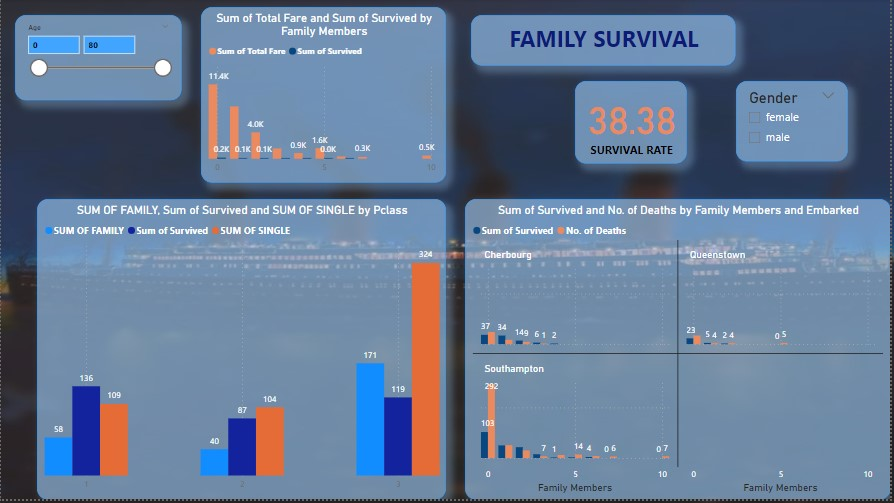

What the dashboard file says about the page in this screenshot:
{"tool":"powerbi","page":{"name":"Family","canvas":[1280,720],"ordinal":1},"visuals":[{"type":"clusteredColumnChart","fields":{"Category":["Titanic_Survival.Family Members"],"Y":["Sum(Titanic_Survival.Survived)","Titanic_Survival.No. of Deaths"],"Rows":["Titanic_Survival.Embarked"]},"box":[667.5,287.5,612.5,432.5],"z":0},{"type":"card","fields":{"Values":["Titanic_Survival.SURVIVAL RATE"]},"box":[826.2,117.5,161.2,118.8],"z":1000},{"type":"clusteredColumnChart","title":"SUM OF FAMILY, Sum of Survived and SUM OF SINGLE by Pclass","fields":{"Category":["Titanic_Survival.Pclass"],"Y":["Titanic_Survival.SUM OF FAMILY","Sum(Titanic_Survival.Survived)","Titanic_Survival.SINGLE PASSENGER"]},"box":[51.2,287.5,588.8,432.5],"z":2000},{"type":"slicer","fields":{"Values":["Titanic_Survival.Age"]},"box":[20,23.8,240,122.5],"z":3000},{"type":"slicer","fields":{"Values":["Titanic_Survival.Sex"]},"box":[1058.8,118.8,161.2,116.2],"z":4000},{"type":"lineClusteredColumnComboChart","fields":{"Category":["Titanic_Survival.Family Members"],"Y":["Sum(Titanic_Survival.Total Fare)","Sum(Titanic_Survival.Survived)"]},"box":[287.5,11.2,352.5,252.5],"z":5000},{"type":"textbox","box":[677.5,23.8,381.2,72.5],"z":6000}]}

Visuals, with their boxes in screenshot pixels (x1, y1, x2, y2), scaled from the page's 1280x720 canvas onto the 894x503 screenshot:
clusteredColumnChart - Titanic_Survival.Family Members x Sum(Titanic_Survival.Survived): bbox=[466, 201, 893, 502]
card - Titanic_Survival.SURVIVAL RATE: bbox=[577, 82, 690, 165]
"SUM OF FAMILY, Sum of Survived and SUM OF SINGLE by Pclass" clusteredColumnChart: bbox=[36, 201, 447, 502]
slicer - Titanic_Survival.Age: bbox=[14, 17, 182, 102]
slicer - Titanic_Survival.Sex: bbox=[740, 83, 852, 164]
lineClusteredColumnComboChart - Titanic_Survival.Family Members x Sum(Titanic_Survival.Total Fare): bbox=[201, 8, 447, 184]
textbox: bbox=[473, 17, 739, 67]
